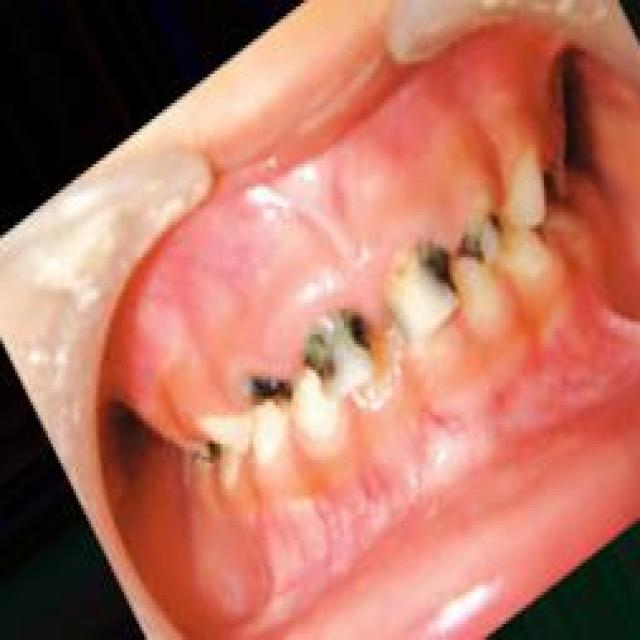caries: (384, 231, 460, 342), (304, 304, 378, 402), (239, 354, 297, 428), (454, 207, 508, 277)
